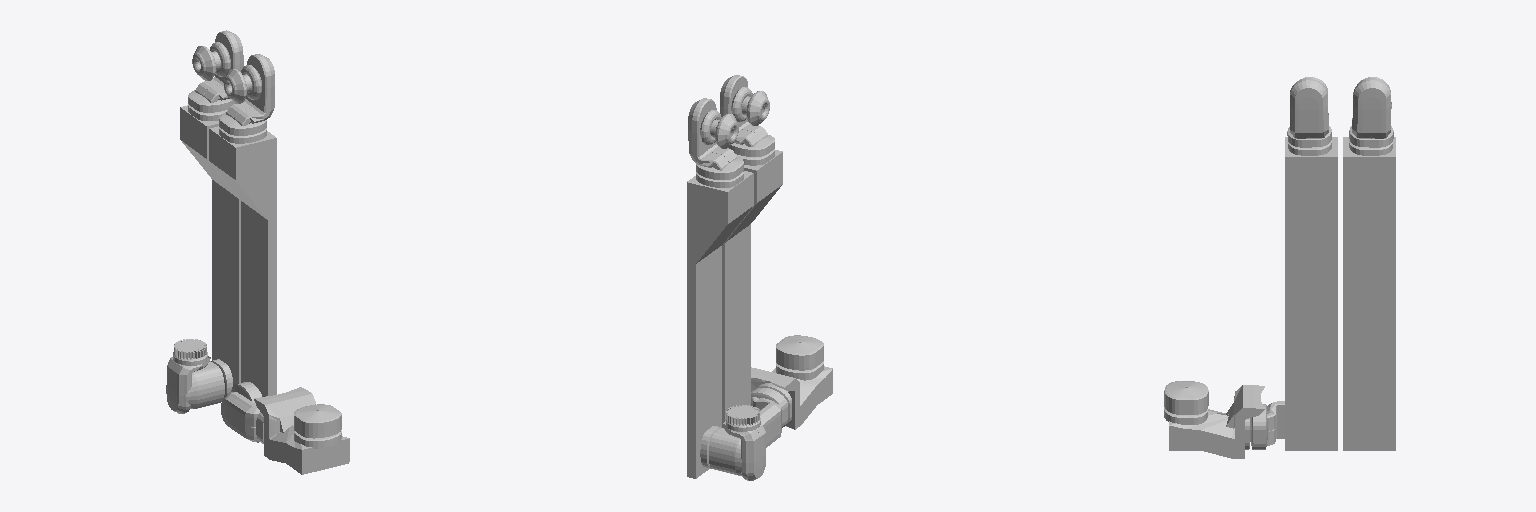
Rendered from hand.obj.
3 views of the same model, side by side, from view 1: azimuth 30°, elevation 25°; view 2: azimuth 150°, elevation 25°; view 3: azimuth 270°, elevation 25° (orthographic).
Visible parts, largest first — view 1: hand.obj; view 2: hand.obj; view 3: hand.obj.
Part boxes in pixels (x1,y1,x2,y2): hand.obj: (166, 30, 349, 474); hand.obj: (687, 75, 832, 480); hand.obj: (1164, 77, 1395, 458).
Size of the model in its own units: 91.57 by 428 by 243.